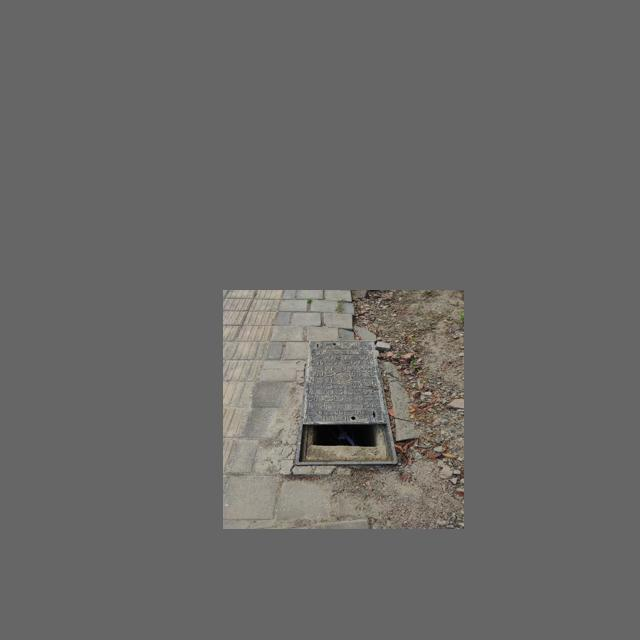uncovered: (290, 338, 399, 466)
